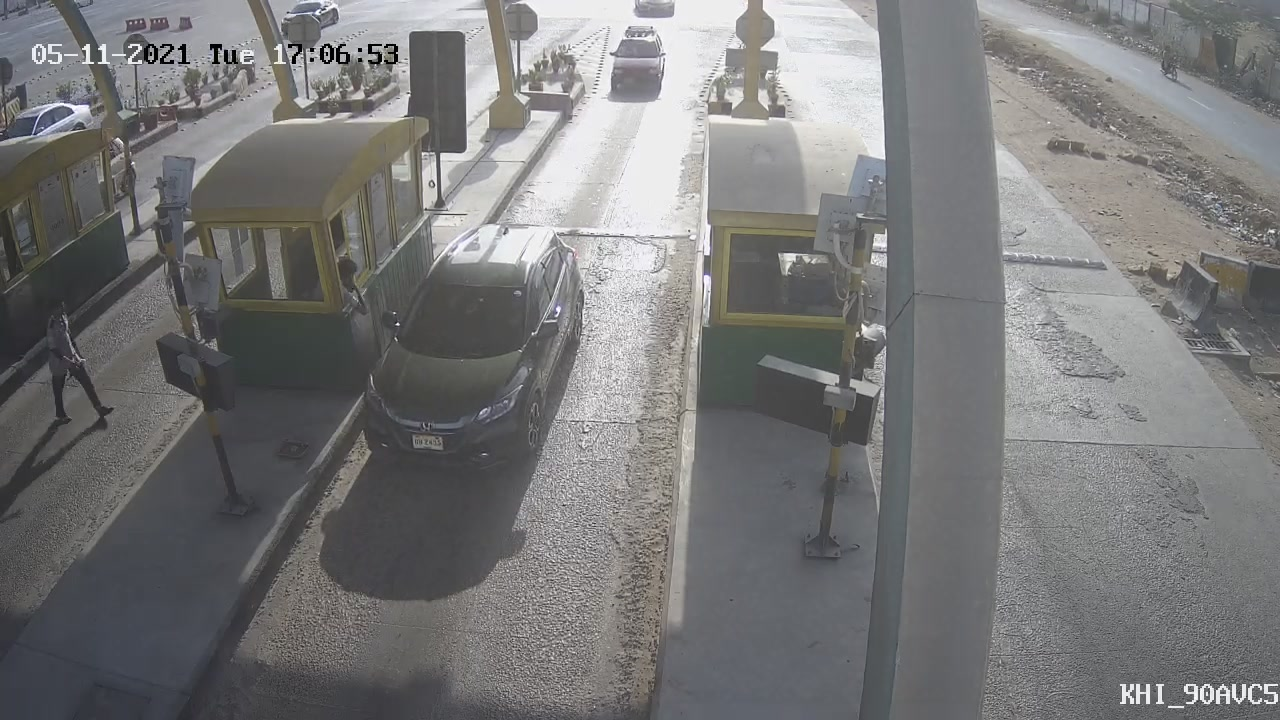F1: (330, 207, 608, 503)
